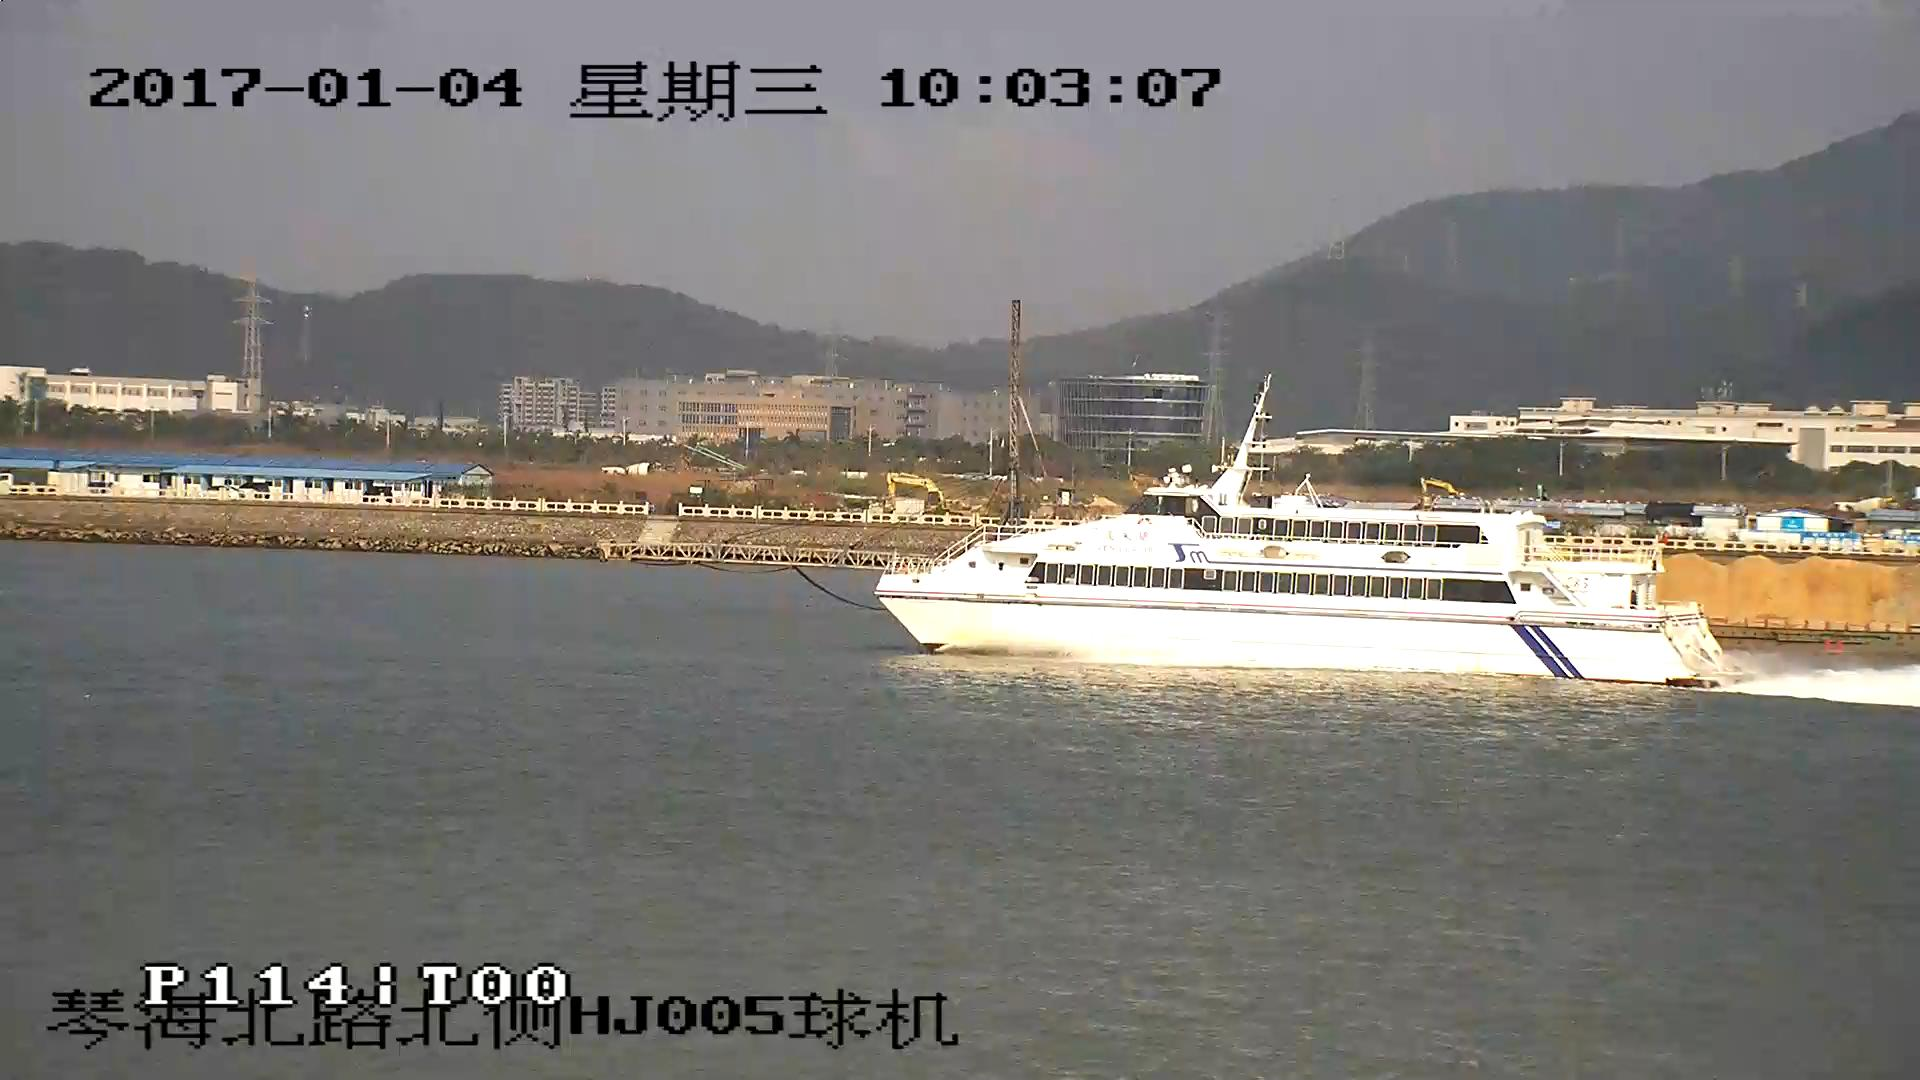ore carrier: (1678, 554, 1920, 648)
passenger ship: (878, 368, 1736, 682)
